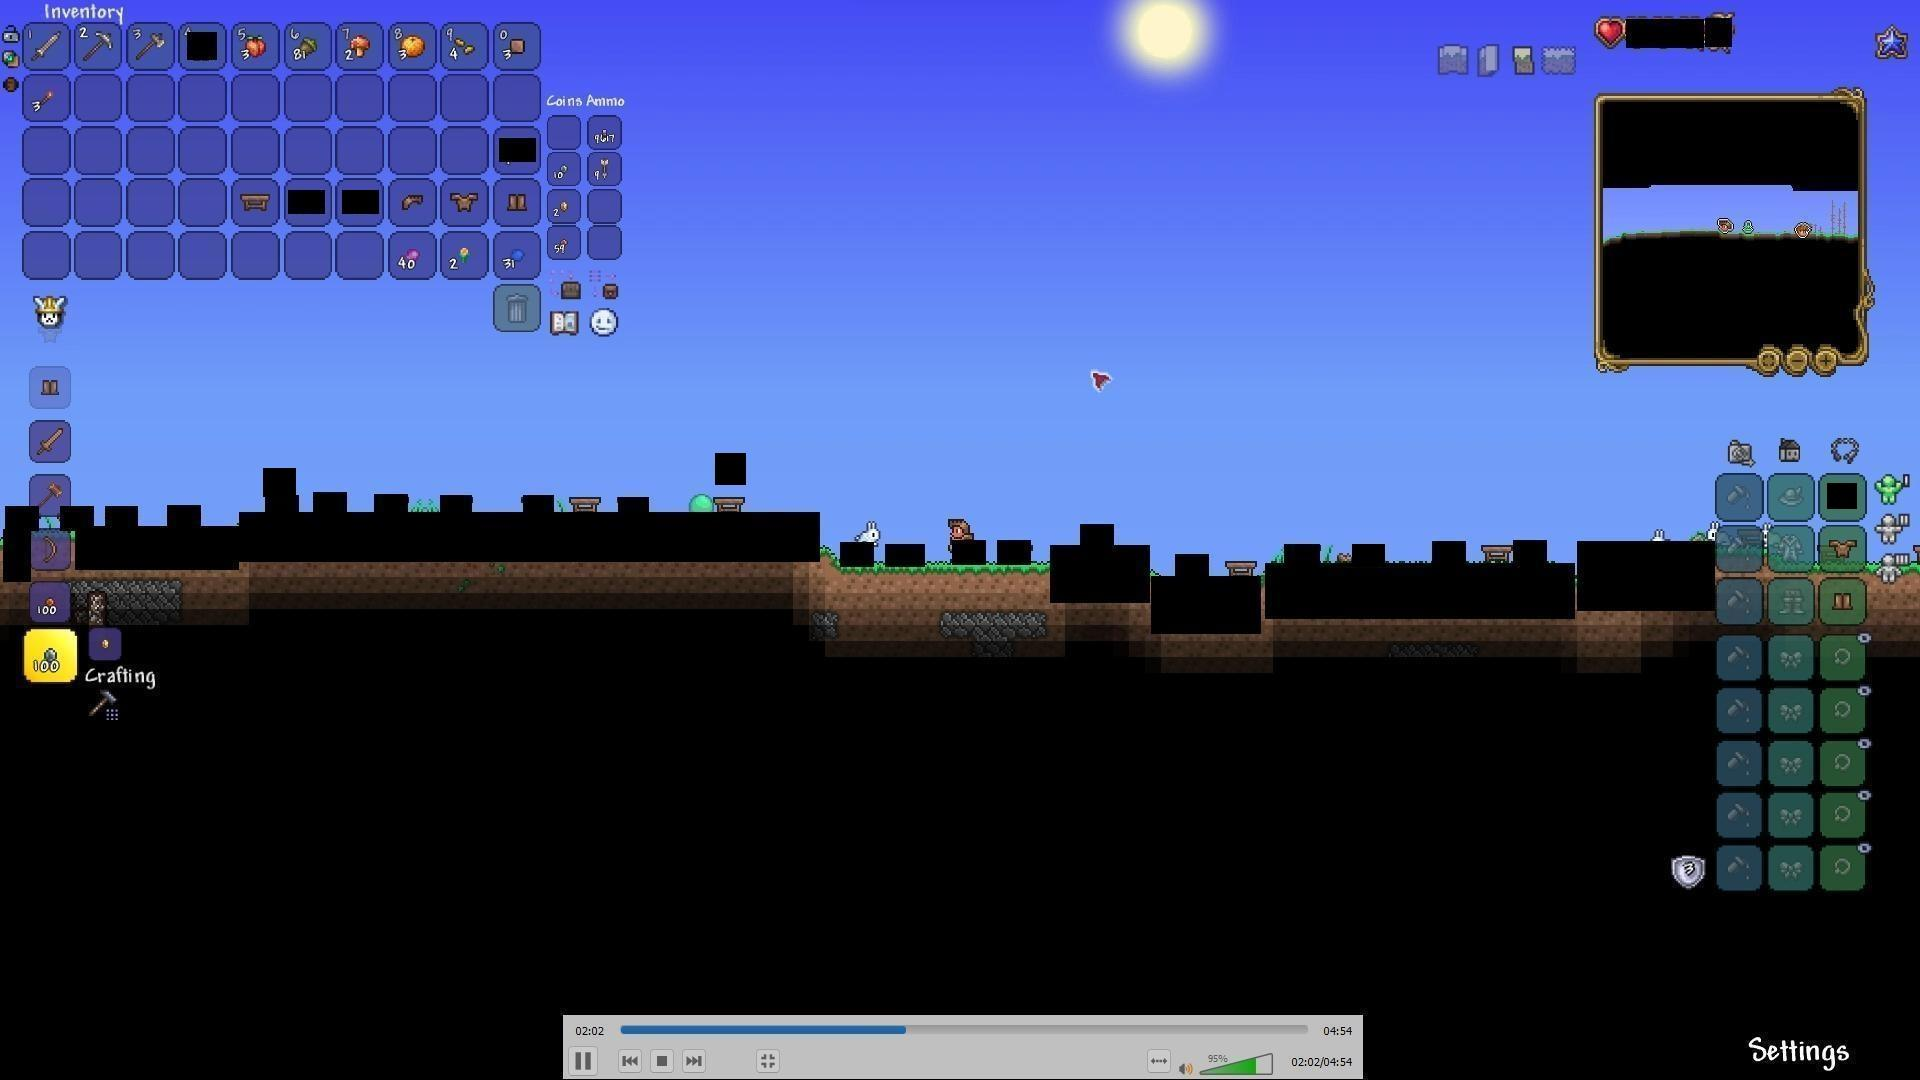breastplate: (1832, 537, 1859, 558), (448, 190, 477, 210)
dirt: (824, 563, 1051, 615)
heart: (1598, 16, 1626, 44)
helmet: (400, 189, 429, 214)
legs: (505, 186, 531, 214), (1832, 587, 1858, 615)
slime: (687, 493, 715, 518)
workbench: (237, 191, 274, 214), (1480, 542, 1513, 566), (570, 491, 603, 514), (713, 492, 746, 516), (1226, 556, 1259, 580)
